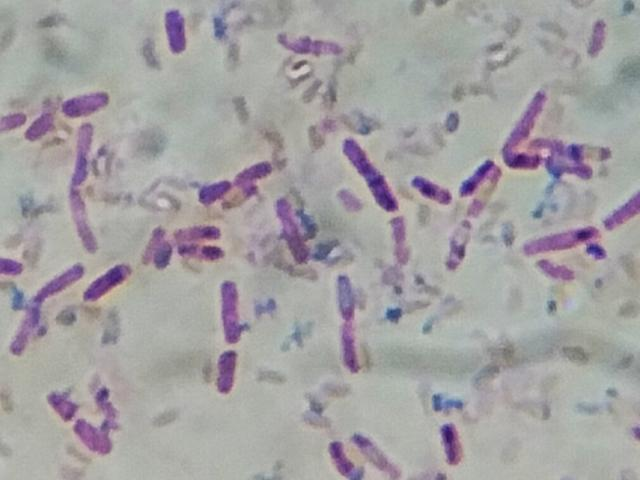E. coli: (342, 137, 397, 218), (505, 85, 549, 161), (351, 427, 402, 479), (215, 272, 249, 343), (518, 225, 599, 254), (69, 416, 120, 459), (282, 27, 350, 59), (83, 263, 138, 302), (278, 199, 310, 266), (28, 260, 84, 295), (596, 187, 640, 230), (211, 342, 241, 399), (71, 193, 98, 255), (339, 316, 367, 373), (9, 296, 36, 355), (406, 169, 449, 206), (436, 422, 467, 470), (44, 389, 84, 426), (26, 106, 63, 145), (63, 85, 113, 113), (463, 153, 494, 198), (331, 272, 360, 320), (585, 13, 612, 63), (325, 436, 355, 480), (568, 139, 621, 162), (181, 240, 225, 266), (542, 155, 596, 176), (172, 220, 223, 242), (168, 10, 188, 62), (236, 159, 275, 185), (139, 222, 161, 267), (75, 119, 95, 163), (533, 130, 568, 154), (201, 176, 231, 203), (72, 159, 90, 200), (3, 102, 28, 130), (156, 242, 177, 273), (0, 250, 20, 279), (512, 153, 537, 171), (331, 102, 334, 104)
